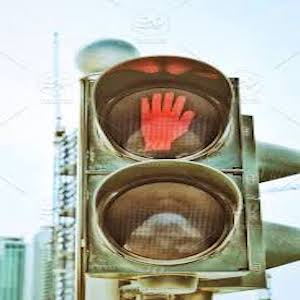red: (130, 88, 193, 149)
